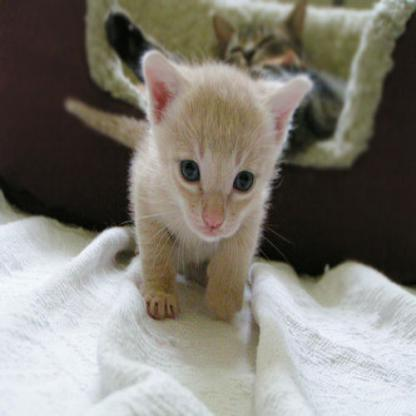cat: (62, 47, 314, 322), (104, 0, 346, 153)
